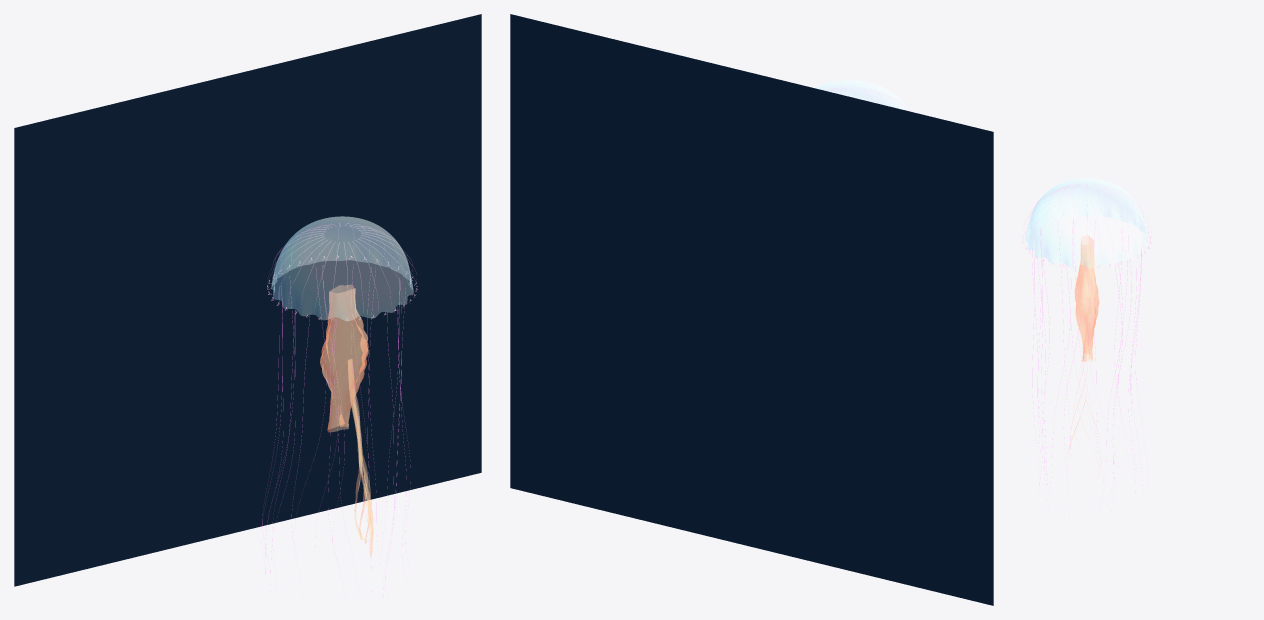
File: jellyfish_candidate.glb
3 views of the same model, side by side, from view 1: azimuth 30°, elevation 25°; view 2: azimuth 150°, elevation 25°; view 3: azimuth 270°, elevation 25° (orthographic). The views are drawn at different scales.
Parts seen in each view (by area): view 1: reference_jellyfish_dark_water_backdrop, reference_jellyfish_bell, reference_jellyfish_oral_plume, reference_jellyfish_long_tentacles, reference_jellyfish_trailing_oral_tail; view 2: reference_jellyfish_dark_water_backdrop, reference_jellyfish_bell; view 3: reference_jellyfish_bell, reference_jellyfish_oral_plume, reference_jellyfish_long_tentacles.
Part boxes in pixels (left/top/right/bottom): reference_jellyfish_dark_water_backdrop: left=14, top=14, right=481, bottom=586; reference_jellyfish_bell: left=271, top=216, right=413, bottom=320; reference_jellyfish_oral_plume: left=320, top=285, right=368, bottom=432; reference_jellyfish_long_tentacles: left=261, top=281, right=410, bottom=596; reference_jellyfish_trailing_oral_tail: left=348, top=359, right=373, bottom=555; reference_jellyfish_dark_water_backdrop: left=510, top=14, right=993, bottom=605; reference_jellyfish_bell: left=815, top=80, right=908, bottom=110; reference_jellyfish_bell: left=1025, top=178, right=1147, bottom=267; reference_jellyfish_oral_plume: left=1074, top=235, right=1099, bottom=361; reference_jellyfish_long_tentacles: left=1032, top=220, right=1142, bottom=499.
Size of the model in its own units: 8 by 7.5 by 3.91.
